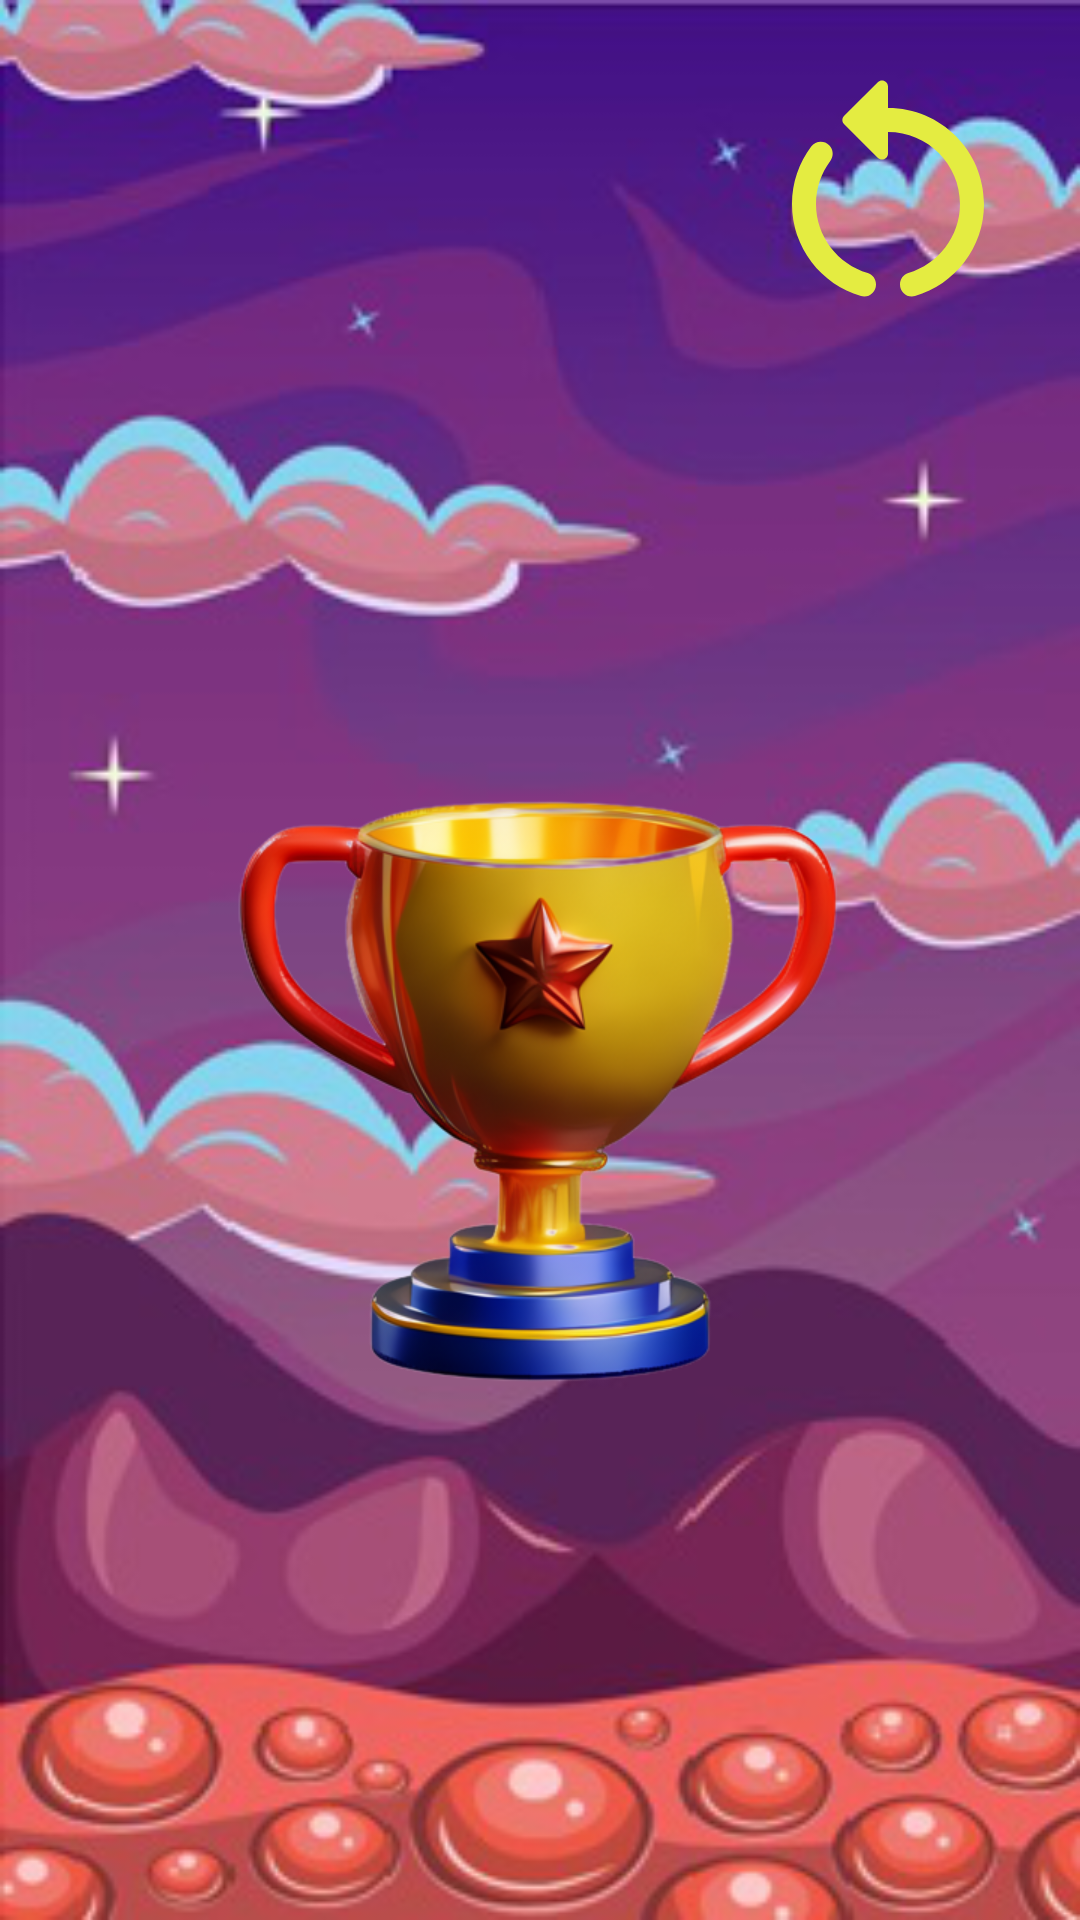

Icon bounding boxes for this 1080px×1920px phone screenshot, format region(x1, y1, x2, y2):
restart: region(744, 80, 1032, 336)
